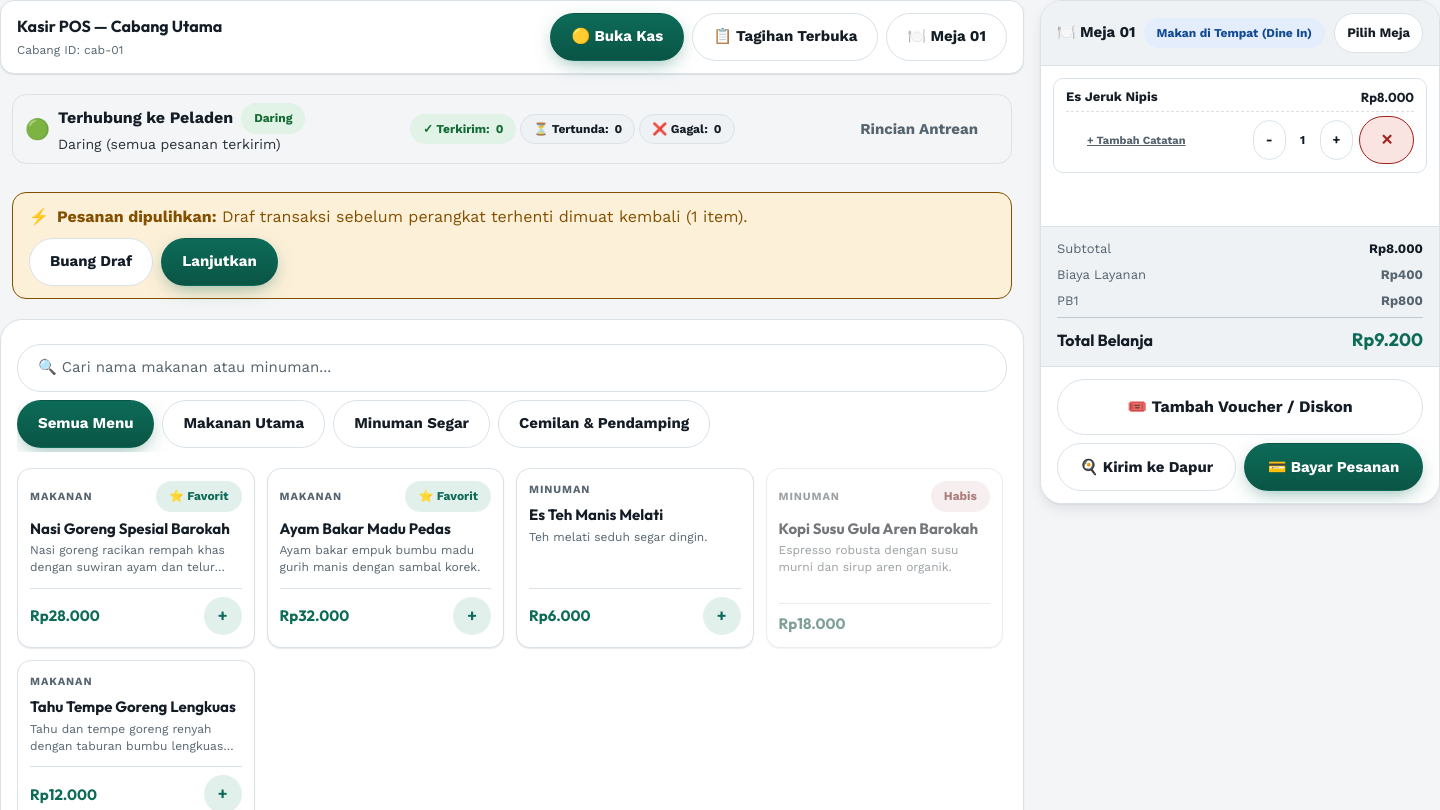
LayarKasir POS (T3-01 s/d T3-16) › menekan tombol Buang Draf pada banner pemulihan menghapus draf dan mengosongkan keranjang (T10-09)
This screenshot has width=1440, height=810.
Expected: the message with test id "banner-pemulihan-draf" is shown, [12, 192, 1012, 299]
Click the button with test id "btn-buang-draf-pulih".
click(91, 262)  # box [29, 238, 153, 286]
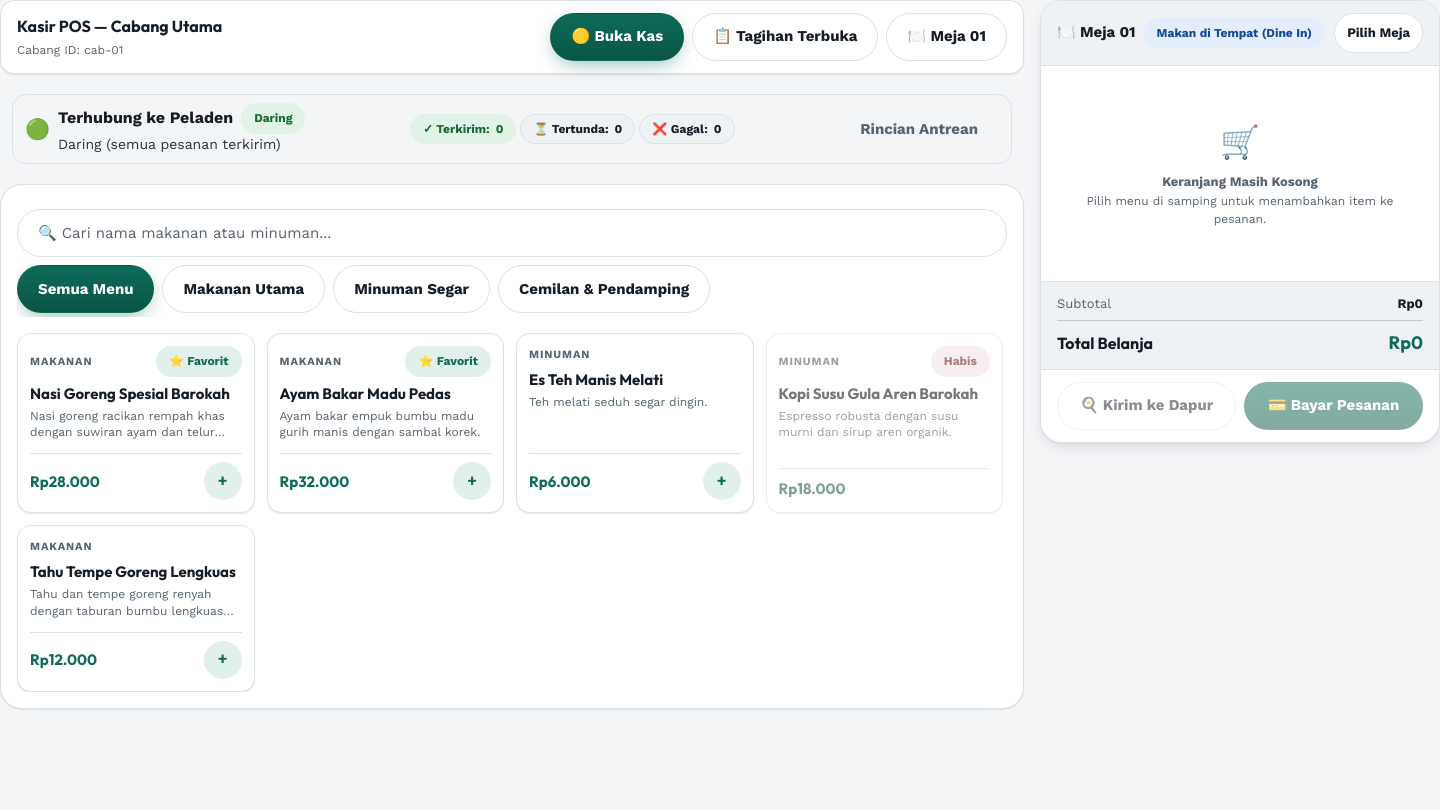
Result: the message with test id "banner-pemulihan-draf" is gone
Result: the text "Keranjang Masih Kosong" is shown at [1162, 172, 1318, 192]
